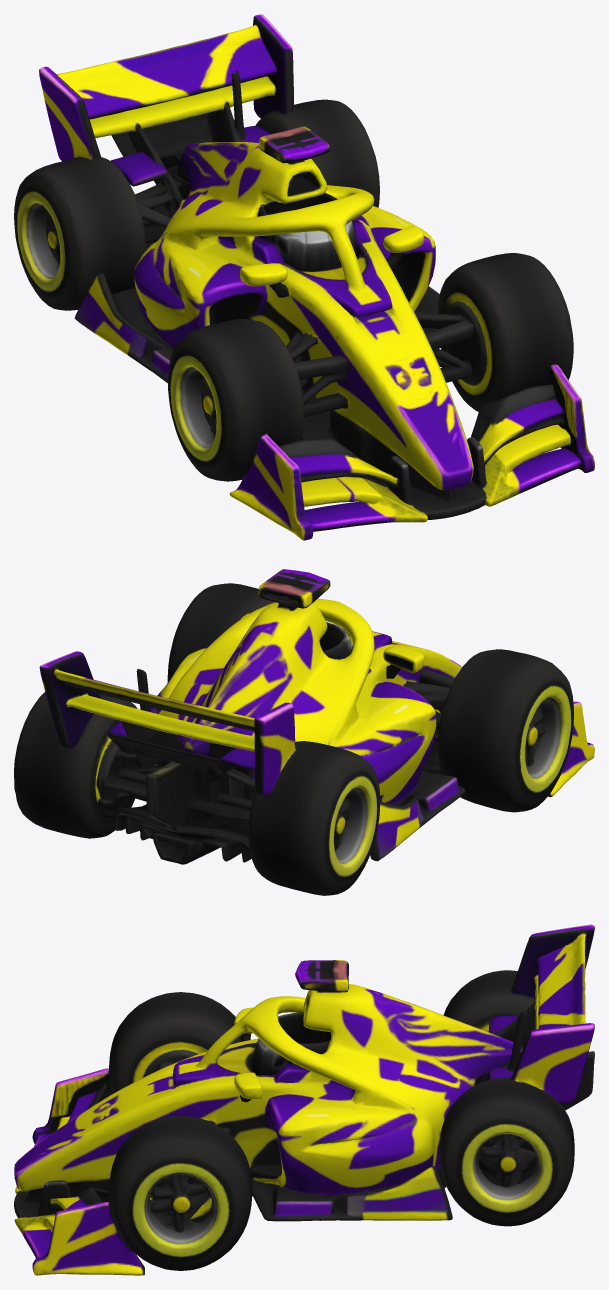
File: formula.glb
The picture shows the model from 3 angles, top to bottom: view 1: azimuth 30°, elevation 25°; view 2: azimuth 150°, elevation 25°; view 3: azimuth 270°, elevation 25°; orthographic projection. The views are drawn at different scales.
Parts seen in each view (by area): view 1: world; view 2: world; view 3: world.
Part boxes in pixels (bbox=[...]): world: bbox=[14, 14, 594, 540]; world: bbox=[14, 569, 594, 895]; world: bbox=[14, 924, 594, 1275].
Size of the model in its own units: 0.6561 by 0.4592 by 1.
Materials: 1 (1 with a texture image).
